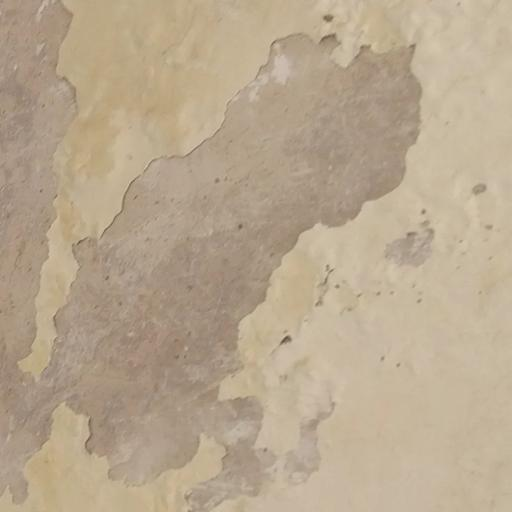peeling: (0, 0, 440, 502)
